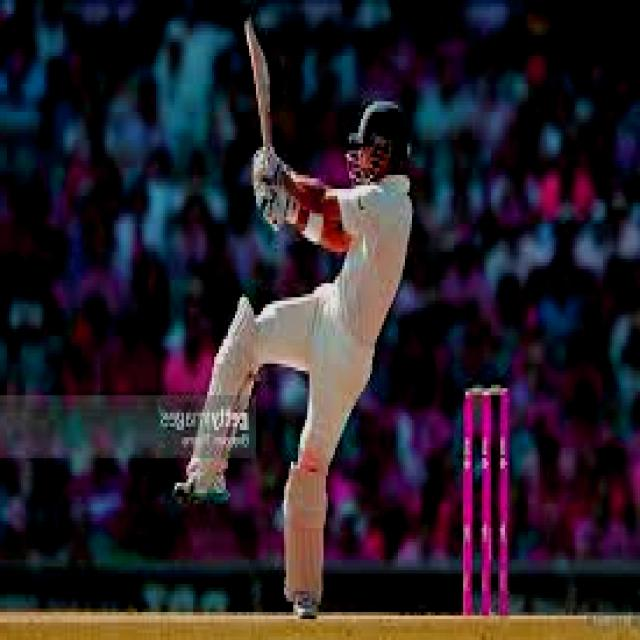toe: (239, 15, 264, 53)
